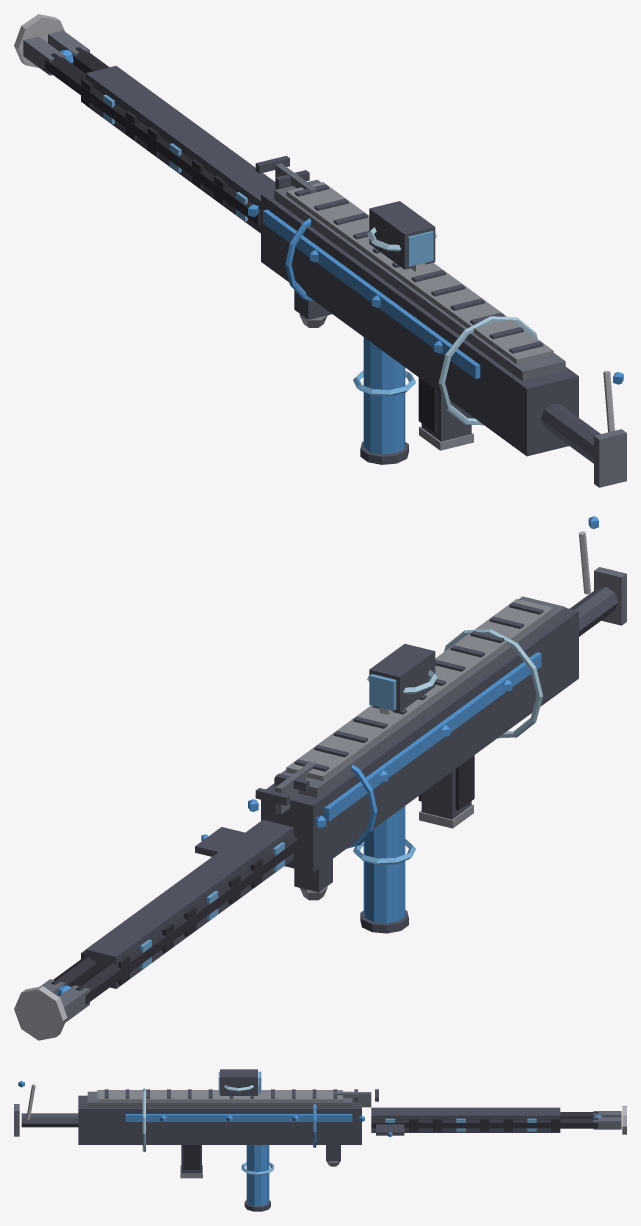
Rendered from m8a1_starhawk.glb.
3 renders of one model, top to bottom at view 1: azimuth 30°, elevation 25°; view 2: azimuth 150°, elevation 25°; view 3: azimuth 270°, elevation 25°, orthographic. The views are drawn at different scales.
Parts seen in each view (by area): view 1: m8a1_starhawk; view 2: m8a1_starhawk; view 3: m8a1_starhawk.
Boxes of the visible parts, x1,y1,x2,y2 form: m8a1_starhawk: [14, 14, 626, 487]; m8a1_starhawk: [14, 516, 626, 1040]; m8a1_starhawk: [14, 1069, 626, 1211].
Size of the model in its own units: 0.0726 by 0.1555 by 0.6485.
